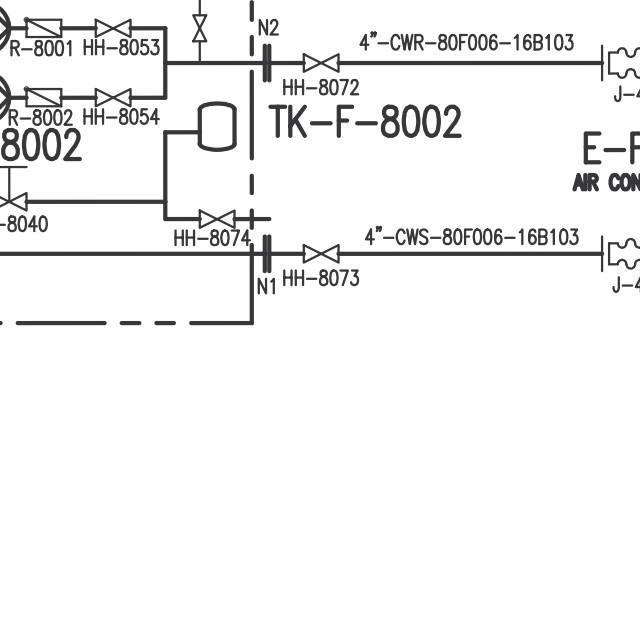CV2: (19, 8, 67, 42), (19, 82, 67, 113)
GV: (299, 240, 345, 266), (195, 207, 241, 229), (301, 51, 340, 73), (90, 87, 135, 106), (91, 17, 135, 36), (189, 9, 209, 43)
TK: (195, 97, 243, 156)
